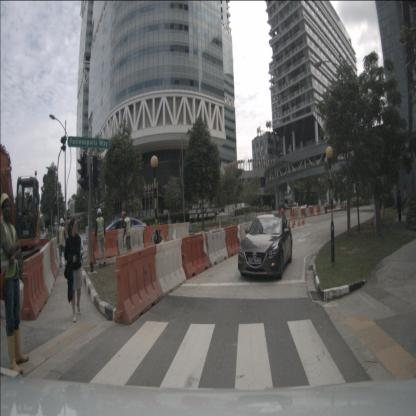barrier: (114, 245, 163, 324), (151, 239, 187, 299), (20, 251, 49, 321), (180, 234, 211, 280), (203, 228, 229, 268), (38, 243, 56, 297), (90, 230, 118, 260), (117, 227, 145, 256), (143, 224, 169, 252), (223, 224, 242, 259), (167, 222, 190, 248), (238, 221, 256, 253), (47, 240, 59, 280), (30, 238, 50, 262), (86, 233, 97, 265), (52, 237, 61, 271), (271, 211, 280, 222), (290, 209, 299, 220), (284, 209, 292, 221), (257, 212, 266, 222), (278, 210, 285, 221), (300, 208, 307, 218), (265, 211, 271, 221), (296, 207, 301, 218), (313, 206, 318, 216), (309, 206, 314, 216), (320, 206, 325, 215), (305, 208, 310, 217), (317, 206, 321, 216)
cone: (218, 219, 222, 230), (291, 217, 295, 228), (302, 214, 306, 224), (296, 217, 300, 226), (287, 217, 291, 226), (293, 215, 296, 225), (301, 215, 304, 225)
